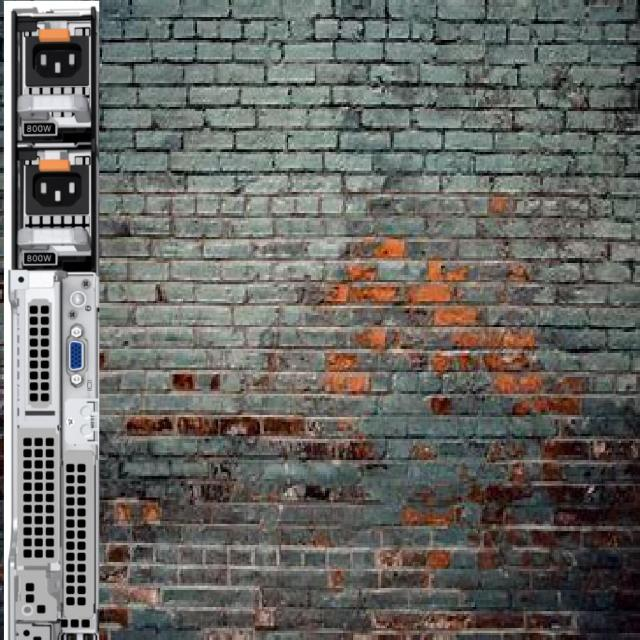Server: (3, 0, 98, 640)
